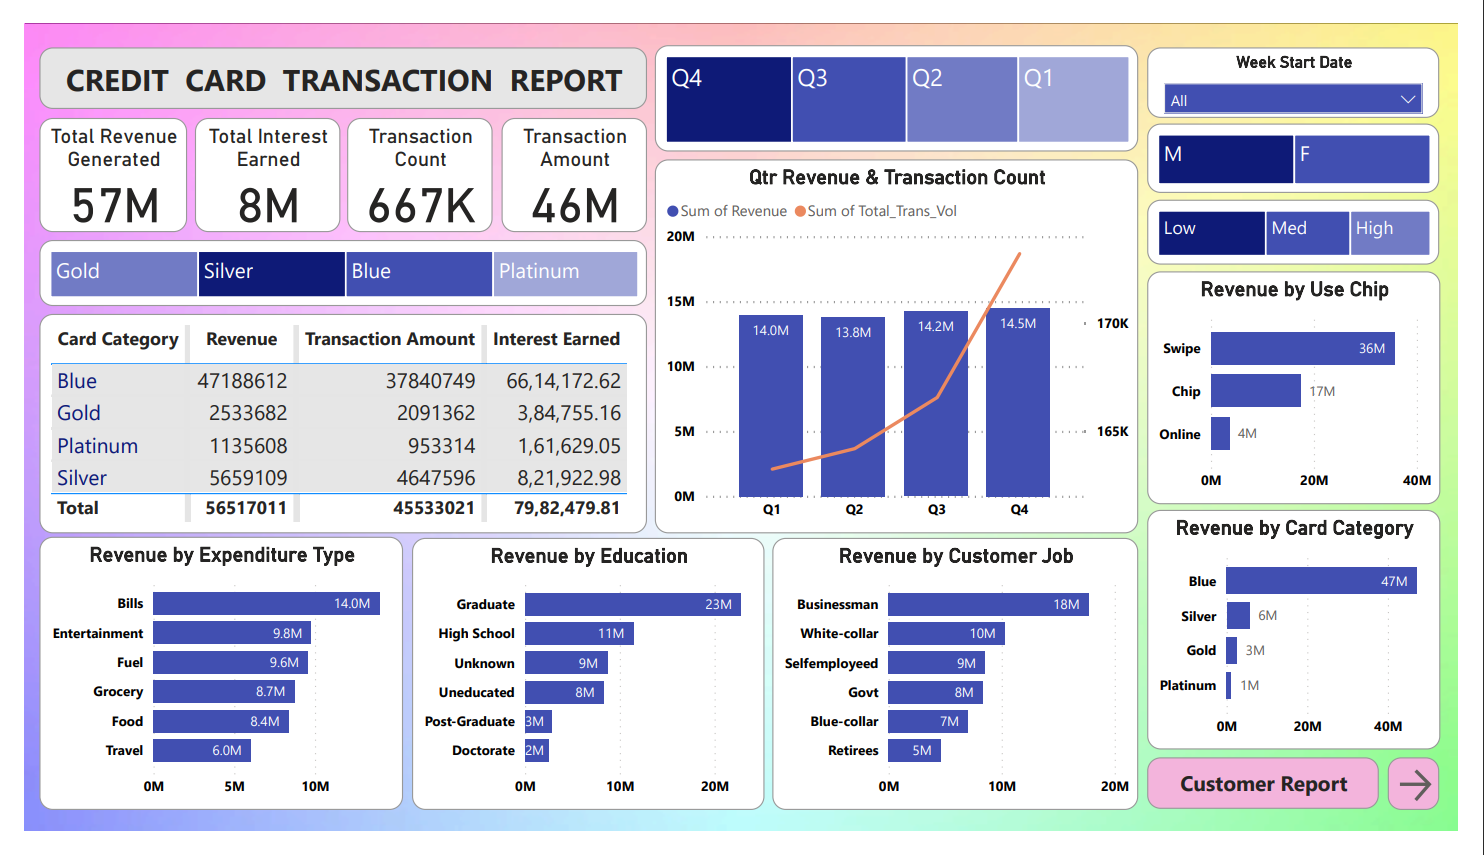

The page's visual inventory and layout, read from the dashboard file:
{"tool":"powerbi","page":{"name":"Credit_Card_Transaction_Report","canvas":[1280,720],"ordinal":0},"visuals":[{"type":"lineStackedColumnComboChart","title":"Qtr Revenue & Transaction Count","fields":{"Category":["ccdb cc_detail.Qtr"],"Y":["Sum(ccdb cc_detail.Revenue)"],"Y2":["Sum(ccdb cc_detail.Total_Trans_Vol)"]},"box":[563.2,120.6,431.8,334.1],"z":0},{"type":"barChart","title":"Revenue by Expenditure Type","fields":{"Y":["Sum(ccdb cc_detail.Revenue)"],"Category":["ccdb cc_detail.Exp Type"]},"box":[13.3,458.3,324.4,243.6],"z":1000},{"type":"barChart","title":"Revenue by Customer Job","fields":{"Y":["Sum(ccdb cc_detail.Revenue)"],"Category":["ccdb cust_detail.Customer_Job"]},"box":[668,459.5,327,242.4],"z":2000},{"type":"barChart","title":"Revenue by Education","fields":{"Y":["Sum(ccdb cc_detail.Revenue)"],"Category":["ccdb cust_detail.Education_Level"]},"box":[346.1,459.5,314.8,242.4],"z":3000},{"type":"barChart","title":"Revenue by Card Category","fields":{"Y":["Sum(ccdb cc_detail.Revenue)"],"Category":["ccdb cc_detail.Card_Category"]},"box":[1003.4,434,261.7,214],"z":4000},{"type":"barChart","title":"Revenue by Use Chip","fields":{"Y":["Sum(ccdb cc_detail.Revenue)"],"Category":["ccdb cc_detail.Use Chip"]},"box":[1003.4,221,261.7,208],"z":5000},{"type":"tableEx","fields":{"Values":["ccdb cc_detail.Card_Category","Sum(ccdb cc_detail.Revenue)","Sum(ccdb cc_detail.Total_Trans_Amt)","Sum(ccdb cc_detail.Interest_Earned)"]},"box":[13.3,259.3,542.7,195.4],"z":6000},{"type":"card","title":"Total Revenue Generated","fields":{"Values":["Sum(ccdb cc_detail.Revenue)"]},"box":[13.3,84.4,132,101.3],"z":7000},{"type":"card","title":"Transaction Amount","fields":{"Values":["Sum(ccdb cc_detail.Total_Trans_Amt)"]},"box":[425.7,84.4,130.3,101.3],"z":8000},{"type":"card","title":"Total Interest Earned","fields":{"Values":["Sum(ccdb cc_detail.Interest_Earned)"]},"box":[152,84.4,130,101.3],"z":9000},{"type":"card","title":"Transaction Count","fields":{"Values":["Sum(ccdb cc_detail.Total_Trans_Vol)"]},"box":[288,84.4,130,101.3],"z":10000},{"type":"slicer","title":"Week Start Date","fields":{"Values":["ccdb cc_detail.Week_Start_Date"]},"box":[1003.4,20.5,260.5,63.9],"z":11000},{"type":"treemap","fields":{"Group":["ccdb cc_detail.Qtr"],"Values":["Avg(ccdb cc_detail.Client_Num)"]},"box":[563.2,19.3,431.8,95],"z":12000},{"type":"treemap","fields":{"Group":["ccdb cust_detail.Gender"],"Values":["Min(ccdb cc_detail.Client_Num)"]},"box":[1003.4,89.2,260.5,61.5],"z":13000},{"type":"treemap","fields":{"Values":["Sum(ccdb cc_detail.Client_Num)"],"Group":["ccdb cust_detail.IncomeGroup"]},"box":[1003.4,156.8,260.5,57.9],"z":14000},{"type":"textbox","box":[13.3,20.5,542.7,55.5],"z":15000},{"type":"treemap","fields":{"Values":["Avg(ccdb cc_detail.Client_Num)"],"Group":["ccdb cc_detail.Card_Category"]},"box":[13.3,193,542.7,59],"z":16000},{"type":"textbox","box":[1003.4,654.9,206.2,45.8],"z":17000},{"type":"actionButton","box":[1218.1,654.9,45.8,47],"z":18000}]}

Visuals, with their boxes in screenshot pixels (x1, y1, x2, y2), scaled from the page's 1280x720 canvas onto the 1484x855 screenshot:
"Qtr Revenue & Transaction Count" lineStackedColumnComboChart: (x1=653, y1=143, x2=1154, y2=540)
"Revenue by Expenditure Type" barChart: (x1=15, y1=544, x2=392, y2=834)
"Revenue by Customer Job" barChart: (x1=774, y1=546, x2=1154, y2=834)
"Revenue by Education" barChart: (x1=401, y1=546, x2=766, y2=834)
"Revenue by Card Category" barChart: (x1=1163, y1=515, x2=1467, y2=770)
"Revenue by Use Chip" barChart: (x1=1163, y1=262, x2=1467, y2=509)
tableEx - ccdb cc_detail.Card_Category x Sum(ccdb cc_detail.Revenue): (x1=15, y1=308, x2=645, y2=540)
"Total Revenue Generated" card: (x1=15, y1=100, x2=168, y2=221)
"Transaction Amount" card: (x1=494, y1=100, x2=645, y2=221)
"Total Interest Earned" card: (x1=176, y1=100, x2=327, y2=221)
"Transaction Count" card: (x1=334, y1=100, x2=485, y2=221)
"Week Start Date" slicer: (x1=1163, y1=24, x2=1465, y2=100)
treemap - ccdb cc_detail.Qtr x Avg(ccdb cc_detail.Client_Num): (x1=653, y1=23, x2=1154, y2=136)
treemap - ccdb cust_detail.Gender x Min(ccdb cc_detail.Client_Num): (x1=1163, y1=106, x2=1465, y2=179)
treemap - Sum(ccdb cc_detail.Client_Num) x ccdb cust_detail.IncomeGroup: (x1=1163, y1=186, x2=1465, y2=255)
textbox: (x1=15, y1=24, x2=645, y2=90)
treemap - Avg(ccdb cc_detail.Client_Num) x ccdb cc_detail.Card_Category: (x1=15, y1=229, x2=645, y2=299)
textbox: (x1=1163, y1=778, x2=1402, y2=832)
actionButton: (x1=1412, y1=778, x2=1465, y2=834)
